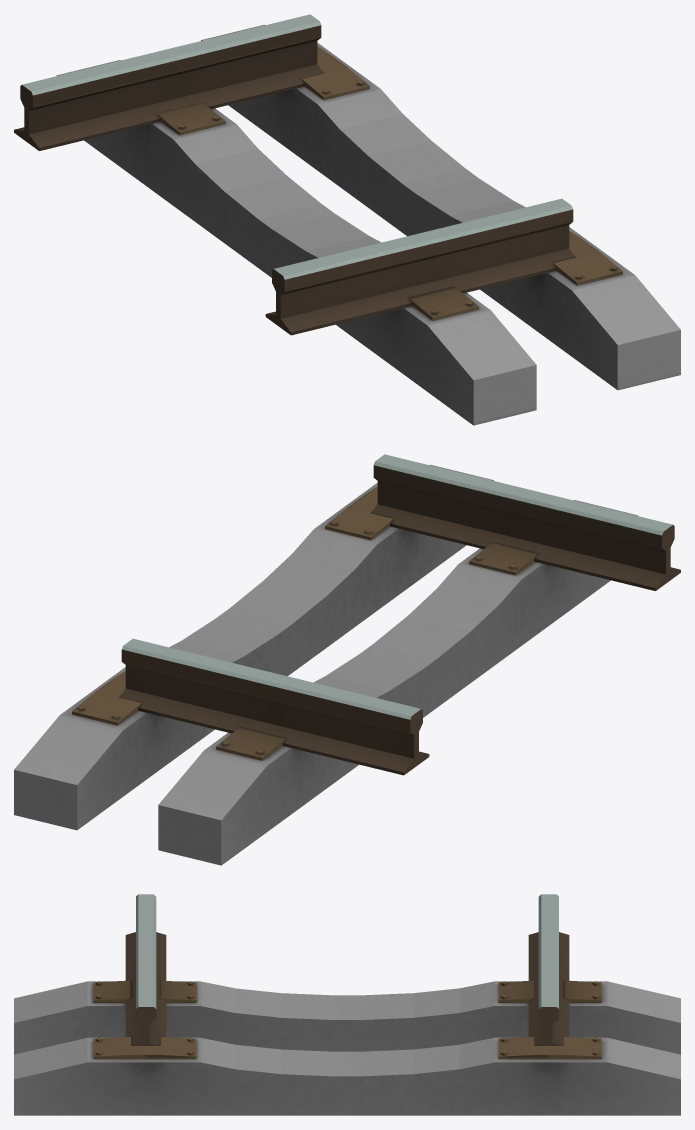
The model's file is sf_concrete_sleepers.obj.
3 views of the same model, one above another, from view 1: azimuth 30°, elevation 25°; view 2: azimuth 150°, elevation 25°; view 3: azimuth 270°, elevation 25° (orthographic). The views are drawn at different scales.
Parts seen in each view (by area): view 1: RAIL_BASE.002_Cube.005, RAIL_LEFT_Cube.002, RAIL_RIGHT_Cube.010, RAIL_BASE.005_Cube.003; view 2: RAIL_BASE.002_Cube.005, RAIL_RIGHT_Cube.010, RAIL_LEFT_Cube.002, RAIL_BASE.005_Cube.003; view 3: RAIL_BASE.002_Cube.005, RAIL_BASE.005_Cube.003, RAIL_LEFT_Cube.002, RAIL_RIGHT_Cube.010.
Part boxes in pixels (x1,y1,x2,y2): RAIL_BASE.002_Cube.005: (56, 24, 680, 425); RAIL_LEFT_Cube.002: (265, 198, 575, 335); RAIL_RIGHT_Cube.010: (14, 14, 323, 150); RAIL_BASE.005_Cube.003: (157, 46, 622, 320); RAIL_BASE.002_Cube.005: (14, 464, 638, 865); RAIL_RIGHT_Cube.010: (119, 638, 429, 775); RAIL_LEFT_Cube.002: (371, 454, 680, 590); RAIL_BASE.005_Cube.003: (72, 486, 537, 760); RAIL_BASE.002_Cube.005: (14, 981, 680, 1115); RAIL_BASE.005_Cube.003: (93, 980, 601, 1059); RAIL_LEFT_Cube.002: (125, 894, 166, 1045); RAIL_RIGHT_Cube.010: (528, 894, 569, 1045).
Size of the model in its own units: 1.11 by 0.3983 by 2.5.
Materials: 1 (1 with a texture image).
